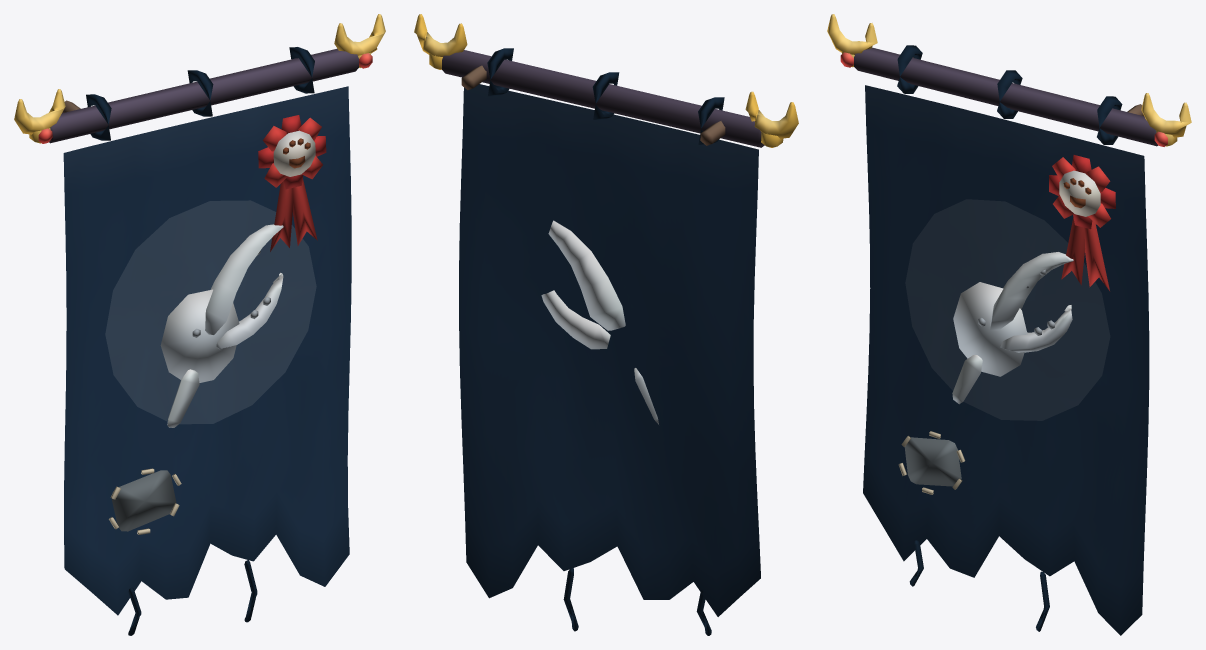
File: furn-bannerBrineclaw.glb
3 views of the same model, side by side, from view 1: azimuth 30°, elevation 25°; view 2: azimuth 150°, elevation 25°; view 3: azimuth 330°, elevation 25° (orthographic). The views are drawn at different scales.
Parts seen in each view (by area): view 1: furn-bannerBrineclaw; view 2: furn-bannerBrineclaw; view 3: furn-bannerBrineclaw.
Boxes of the visible parts, left/top/right/bottom form: furn-bannerBrineclaw: left=14, top=14, right=385, bottom=635; furn-bannerBrineclaw: left=414, top=14, right=798, bottom=635; furn-bannerBrineclaw: left=827, top=14, right=1191, bottom=635.
Bounding box in the file's own units: 0.5481 × 0.8039 × 0.103.
